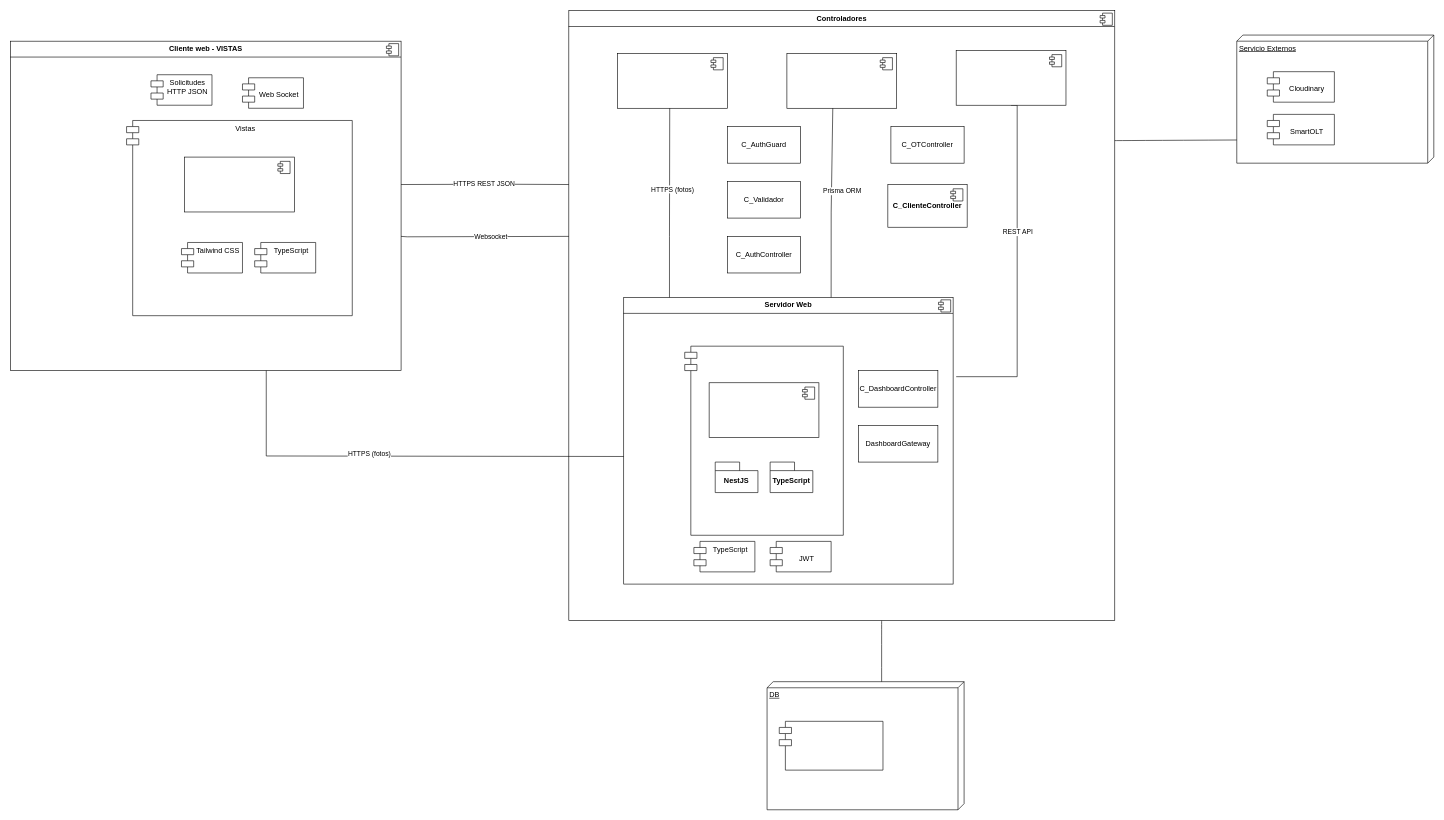
This 1444x820 diagram has some shape labels left out. The shapes that lost their labels are listed below. From the top down, each one's centre as x and y in pixels, then its label:
the point at 672,80: CloudinaryController
the point at 841,80: C_PostgreSQL
the point at 1011,77: SmartOLTController
the point at 239,184: SvelteKit
the point at 764,410: Login
the point at 831,745: Base de datos PostgresSQL
